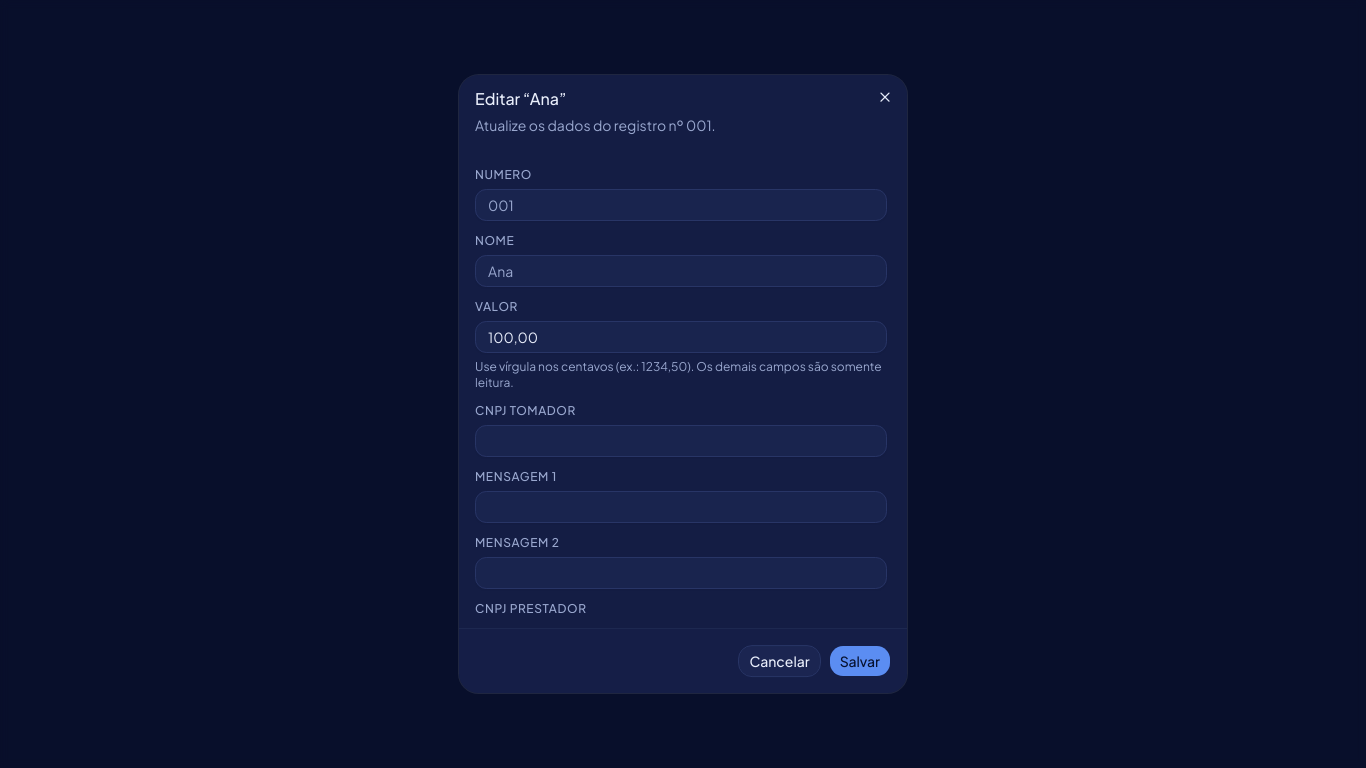
EditDialog — correção de valor › resposta 200 sem desfecho reconhecível não vira sucesso
The width and height of the screenshot is (1366, 768).
Replace the text in the field labelled "Valor" with "150,00" at (681, 337), box [475,321,887,353]
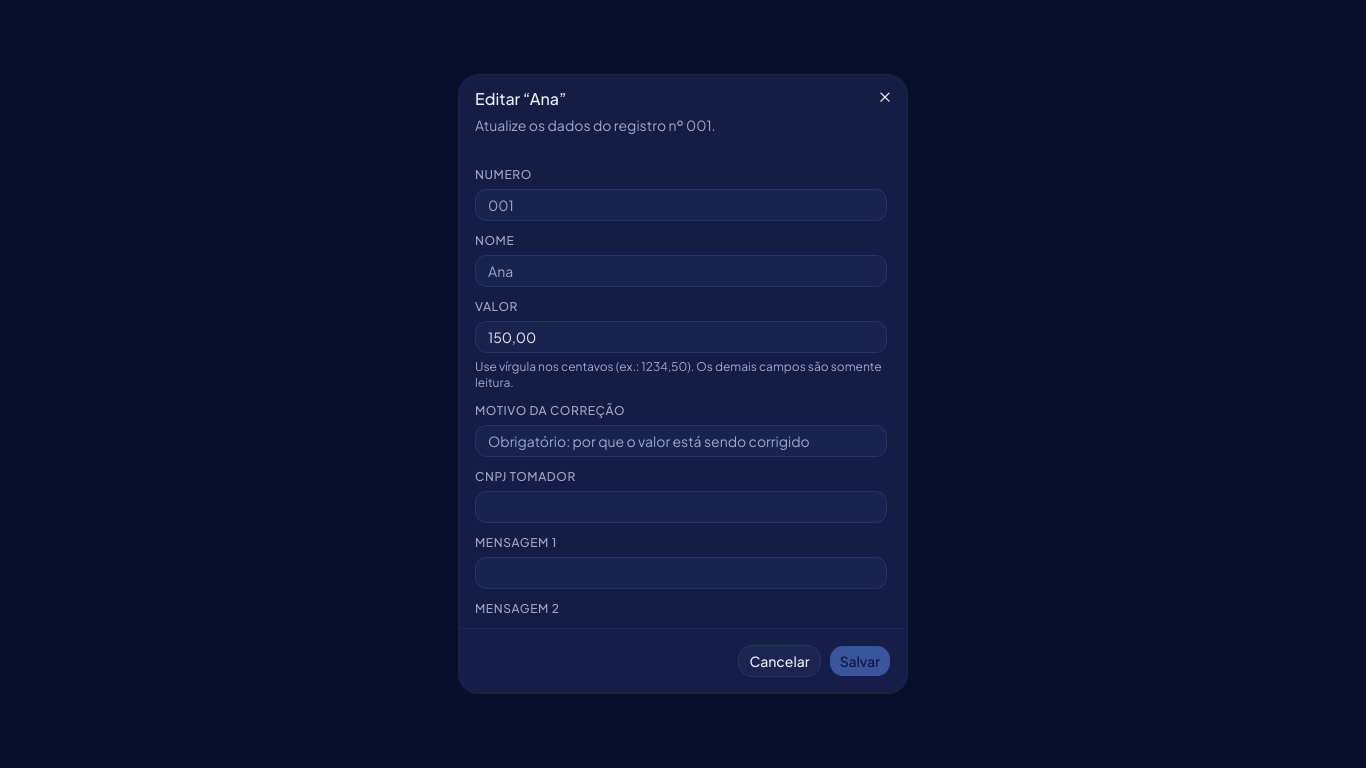
Type "x" into the field labelled "Motivo da correção" at (681, 441), box [475,425,887,457]
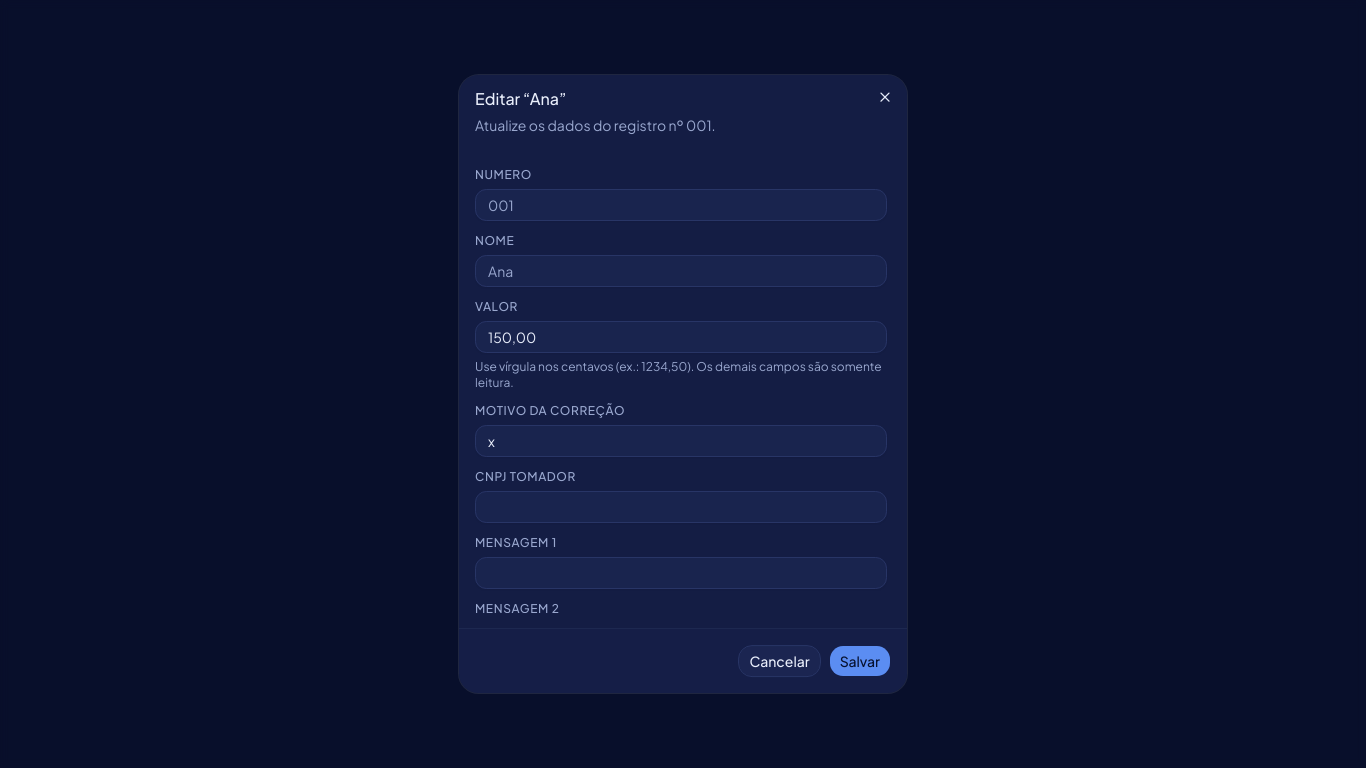
Click the button "Salvar" at (860, 661), box [829,645,891,677]
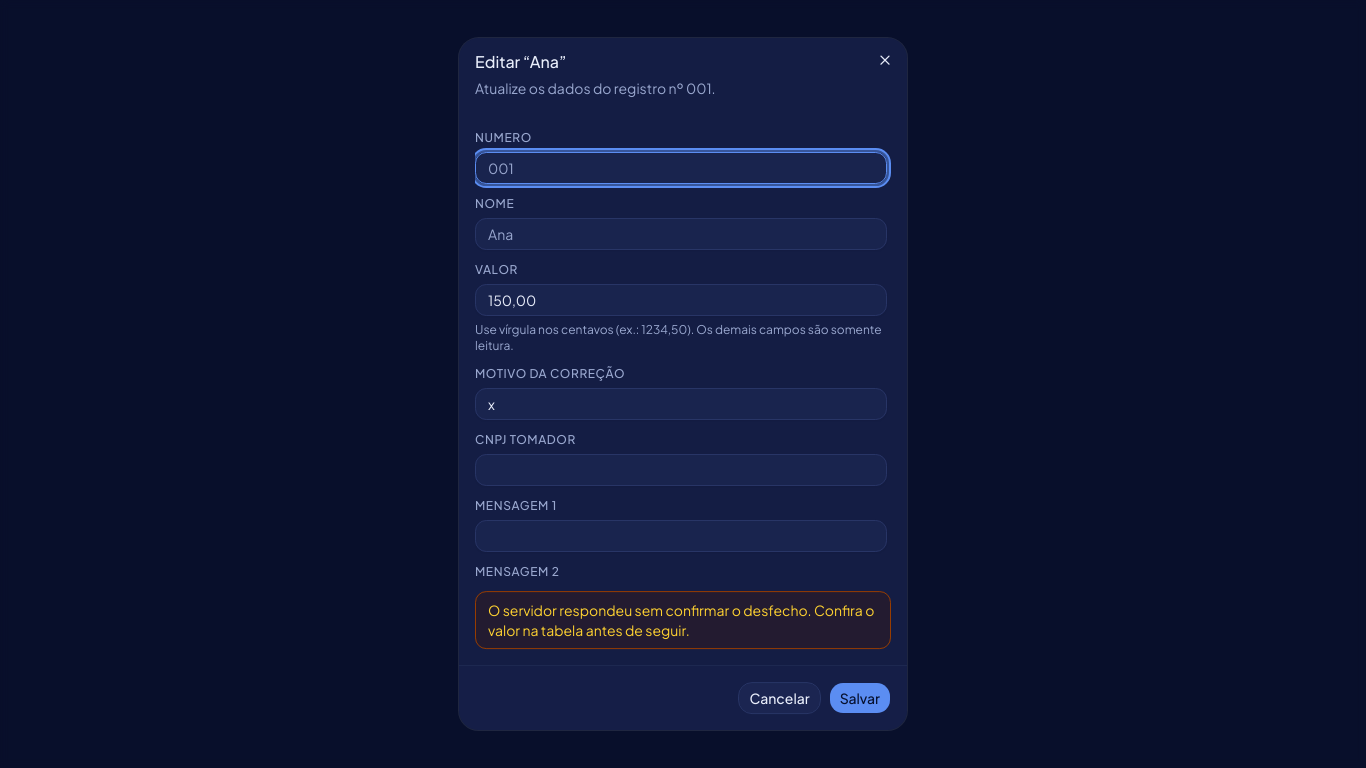
Result: the message shows "sem confirmar o desfecho" at [488,601,874,639]
